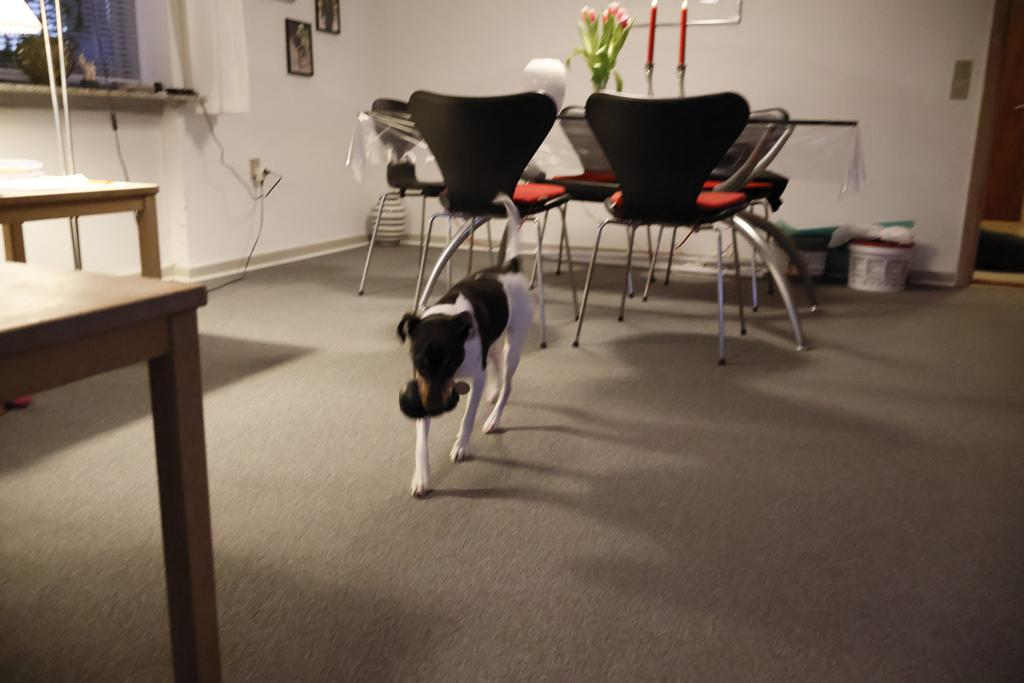Dog: (375, 191, 549, 511)
